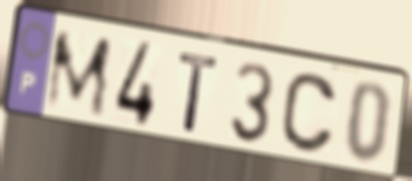0: (344, 77, 395, 168)
3: (228, 61, 277, 146)
4: (111, 38, 158, 130)
C: (278, 70, 339, 157)
M: (42, 29, 115, 120)
T: (176, 49, 222, 136)
